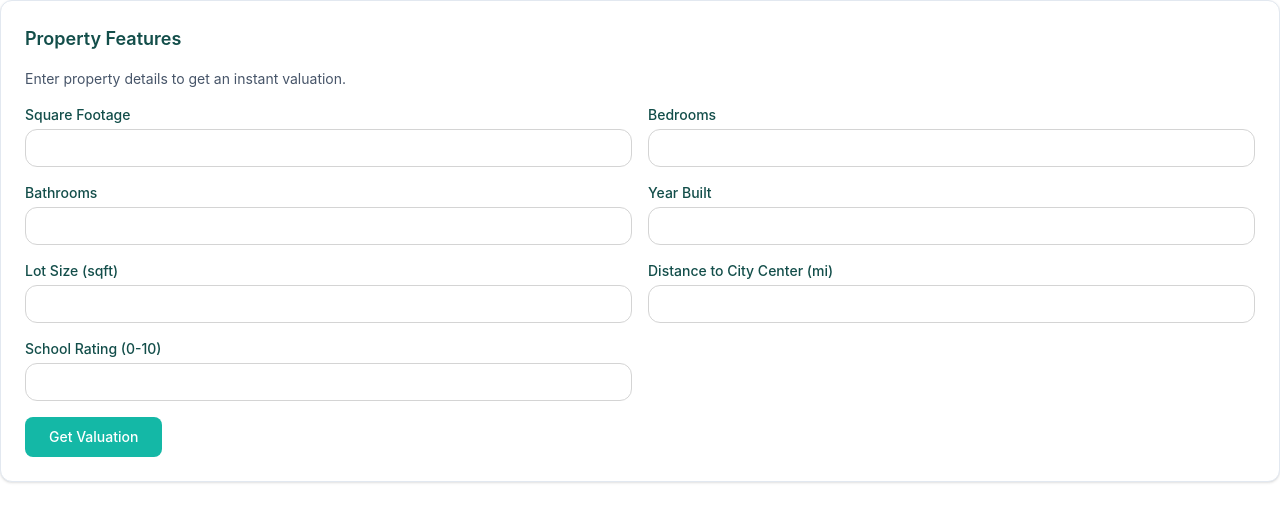
ValuationForm › shows validation error for empty square footage
Click the button with test id "btn-get-valuation": x=94, y=437 [25,417,162,457]
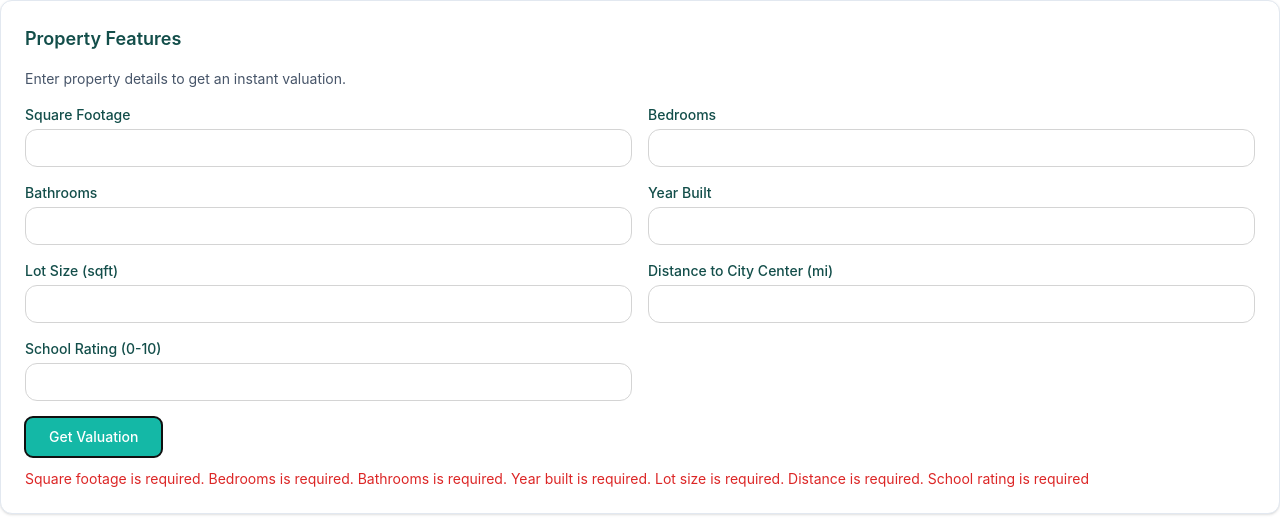
Expected: the text with test id "error-validation" shows "required", [25,470,1089,487]
